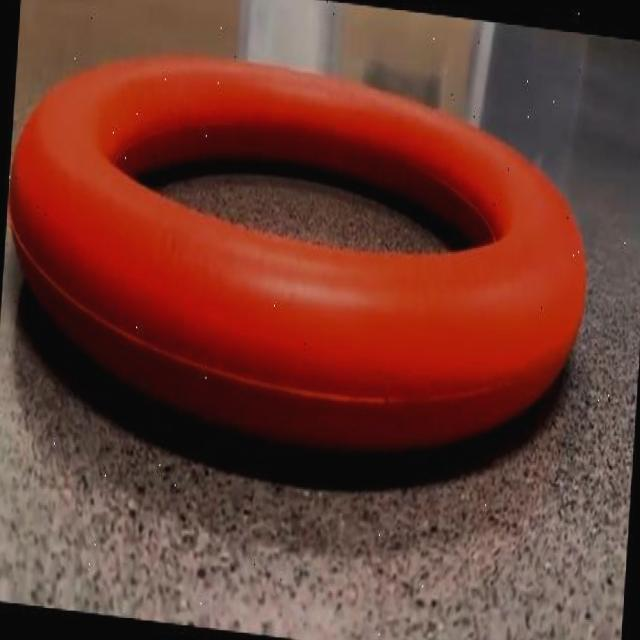note: (9, 55, 585, 453)
